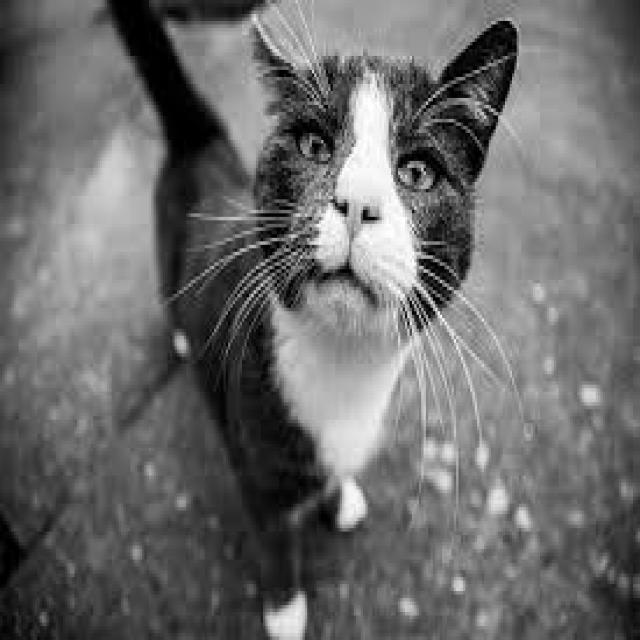Cat: (99, 2, 524, 640)
